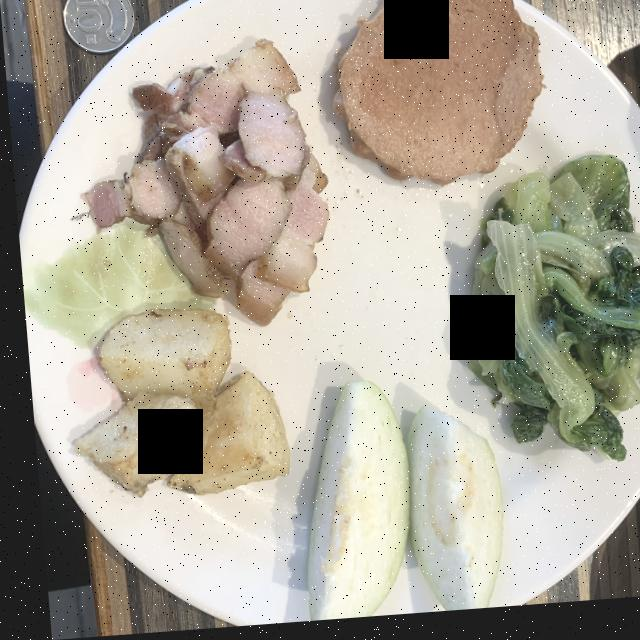Spam: (332, 0, 541, 192)
coin: (63, 0, 134, 55)
fried potato: (67, 311, 282, 498)
grilled pork: (83, 44, 324, 329)
guava -sliced-: (297, 386, 494, 625)
mustard greens: (464, 164, 640, 470)
